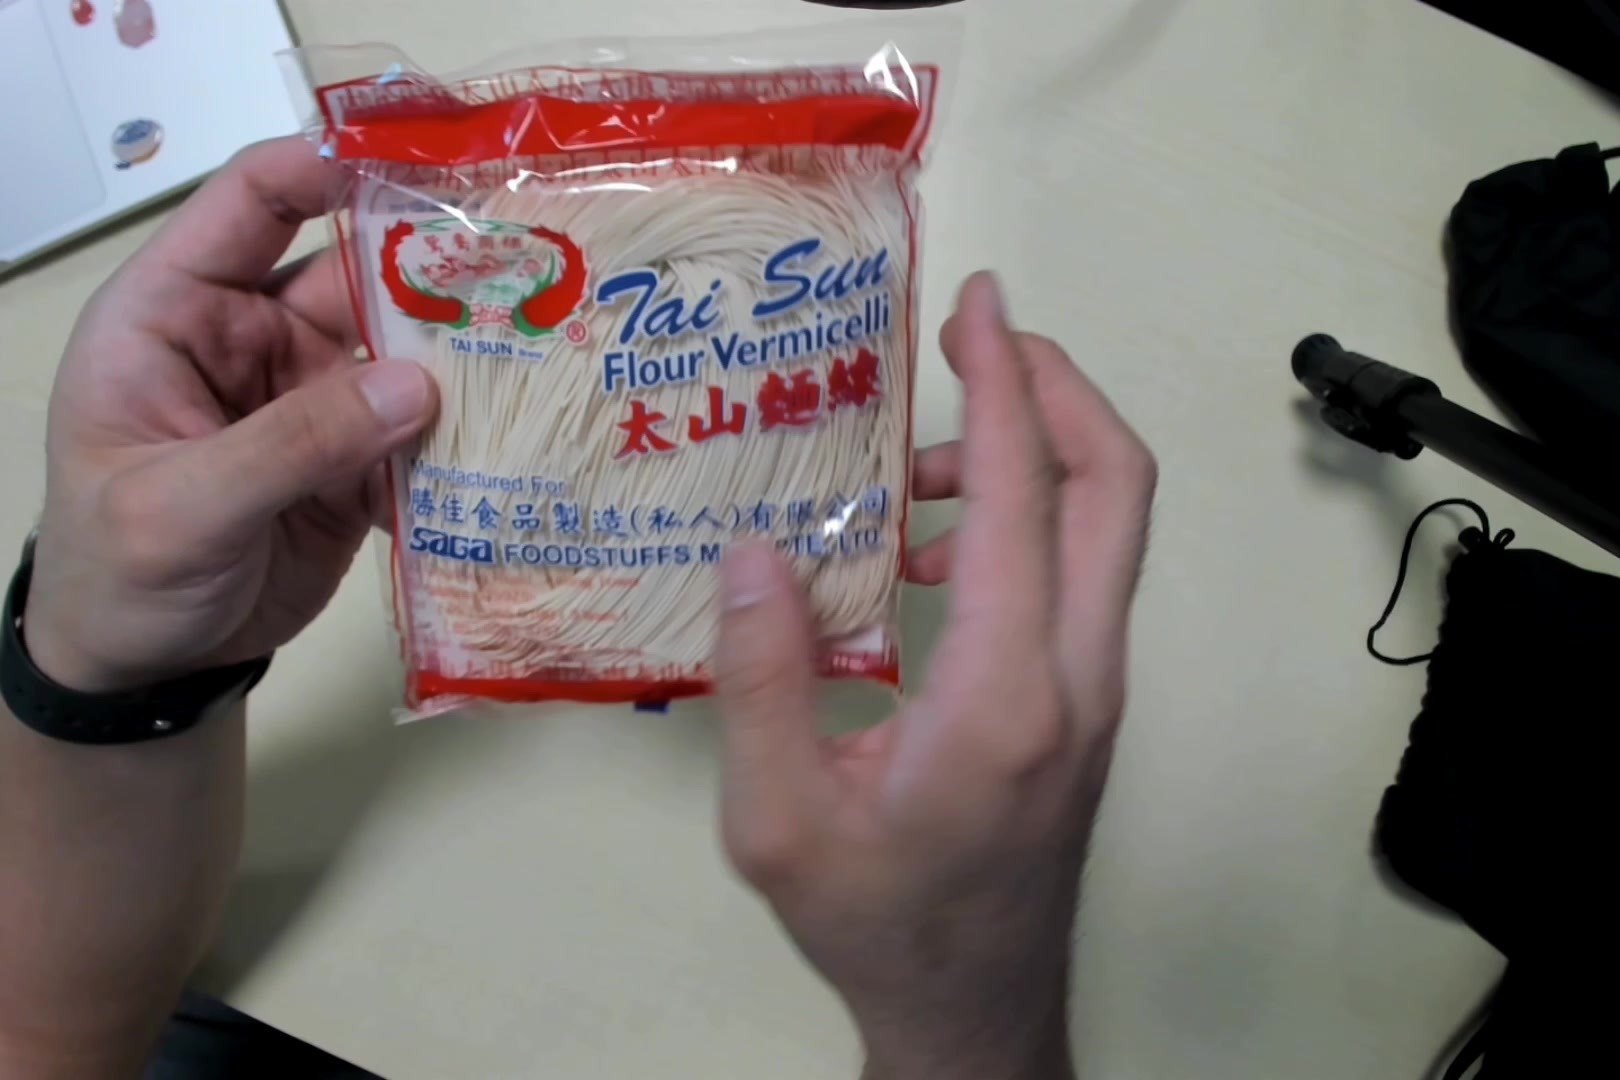BeeHoonVermicelli_100-199g_Halal_NonHealthy: (295, 23, 903, 700)
